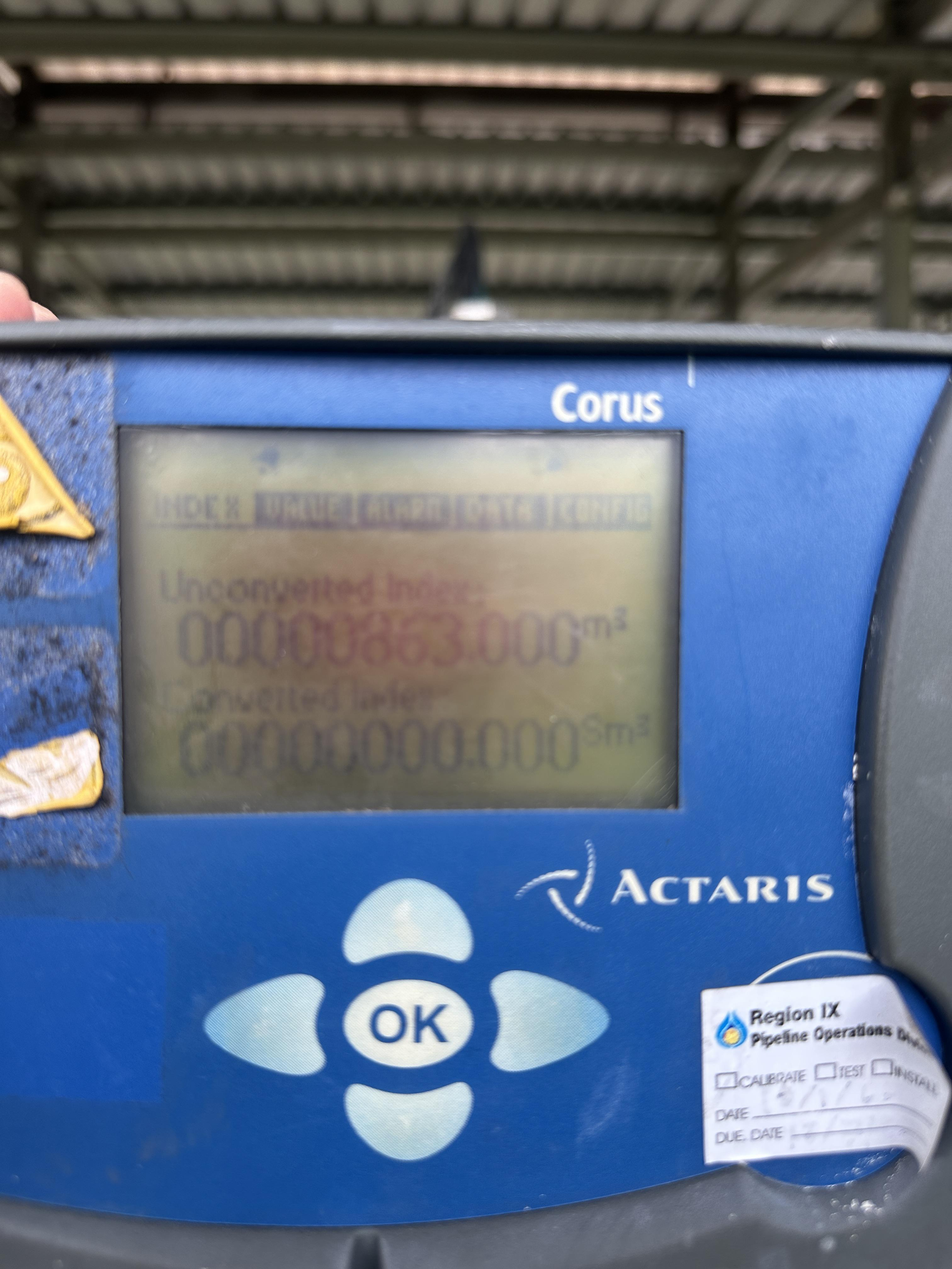digital_screen: (116, 427, 683, 816)
